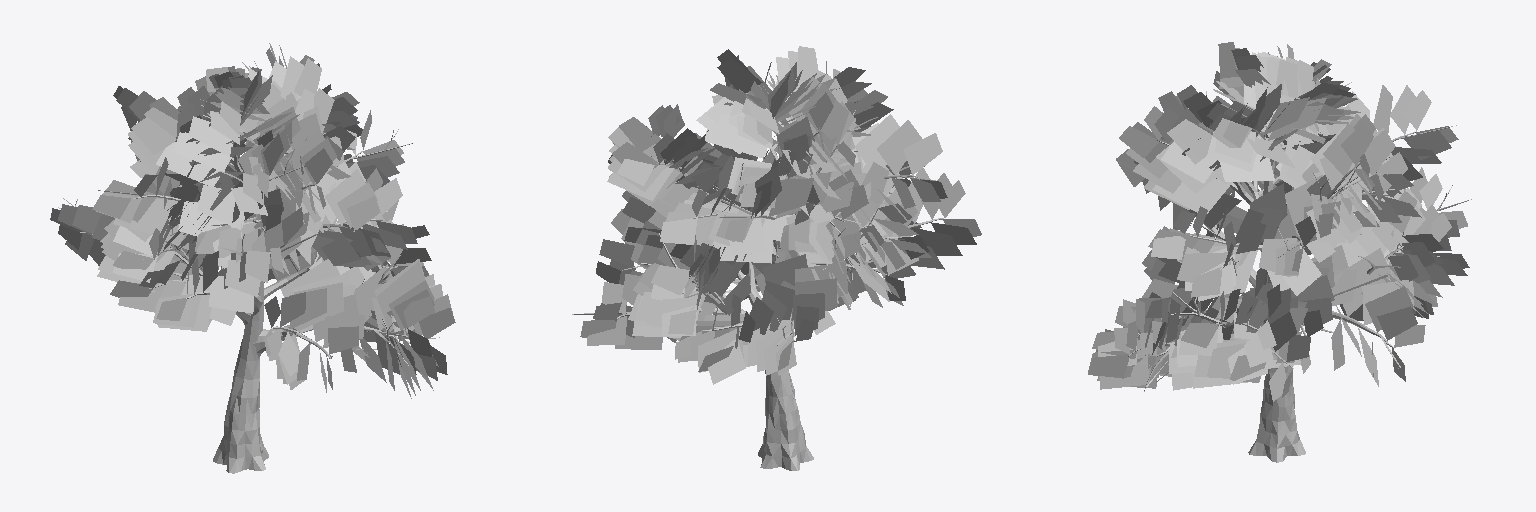
File: Tree_3.obj
3 views of the same model, side by side, from view 1: azimuth 30°, elevation 25°; view 2: azimuth 150°, elevation 25°; view 3: azimuth 270°, elevation 25° (orthographic).
Visible parts, largest first — view 1: tree; view 2: tree; view 3: tree.
Boxes of the visible parts, <box> form: tree: <box>50,43,455,473</box>; tree: <box>572,46,981,470</box>; tree: <box>1088,42,1471,462</box>.
Bounding box in the file's own units: 345 × 386 × 334.